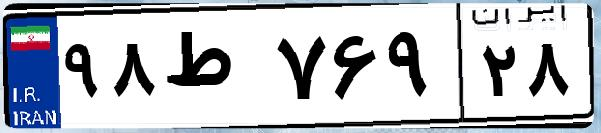2: (475, 38, 525, 113)
6: (330, 28, 385, 110)
7: (270, 28, 330, 110)
8: (525, 38, 570, 115), (110, 28, 158, 98)
9: (385, 28, 445, 110), (57, 26, 110, 100)
ط: (158, 20, 270, 120)
